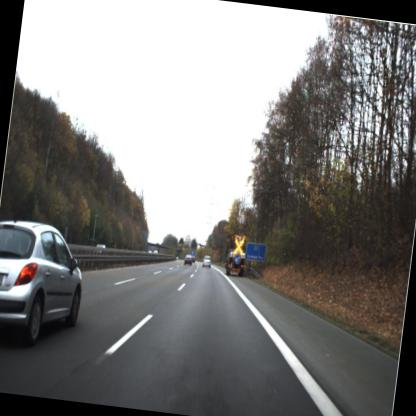mandatory: (231, 251, 242, 268)
